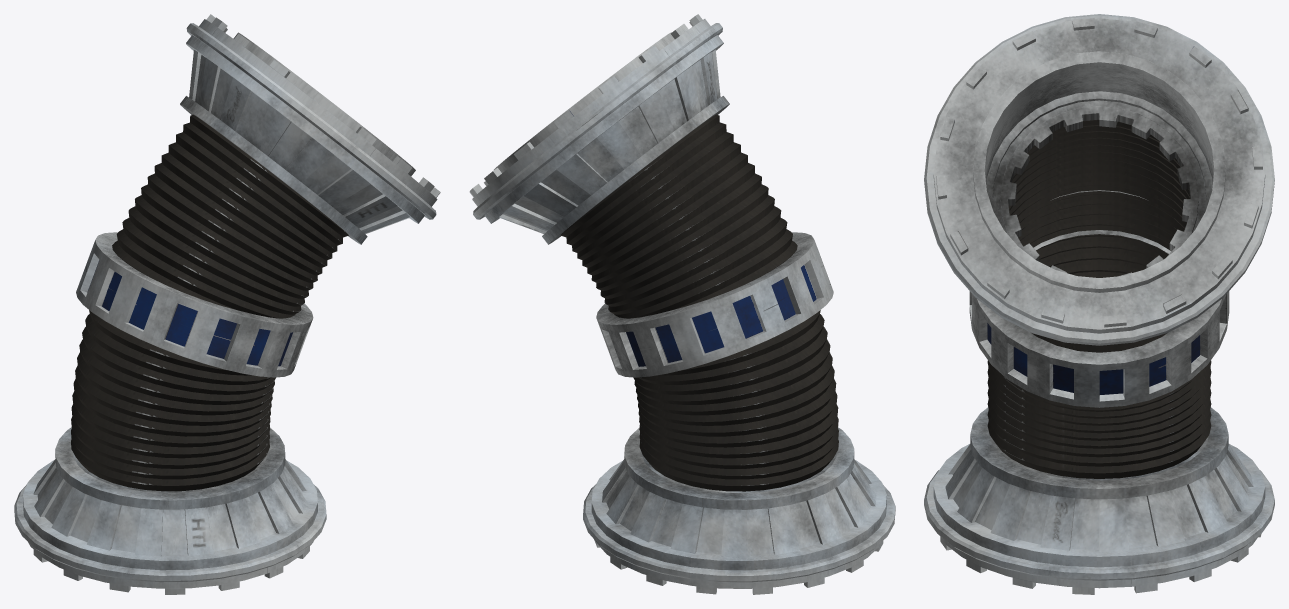
The model's file is Connector_45deg.fbx.
The picture shows the model from 3 angles, left to right: view 1: azimuth 30°, elevation 25°; view 2: azimuth 150°, elevation 25°; view 3: azimuth 270°, elevation 25°; orthographic projection. The views are drawn at different scales.
Visible parts, largest first — view 1: Connector_45deg; view 2: Connector_45deg; view 3: Connector_45deg.
Part boxes in pixels (x1,y1,x2,y2): Connector_45deg: (14,14,440,594); Connector_45deg: (469,14,895,594); Connector_45deg: (924,14,1274,594).
Bounding box in the file's own units: 62.29 × 76.4 × 44.42.
